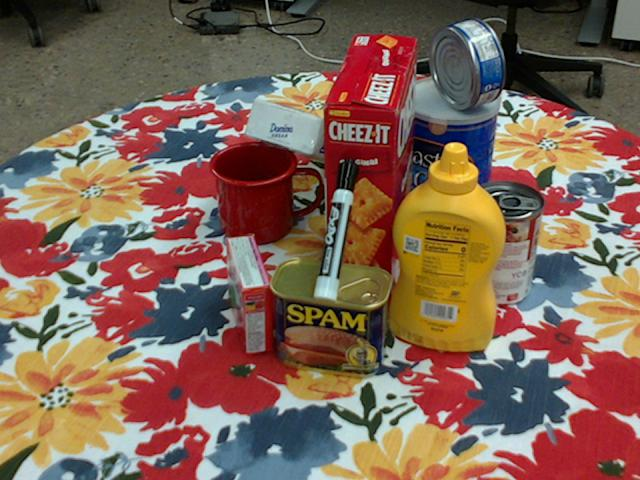cracker_box: (323, 34, 419, 313)
gelatin_box: (227, 233, 272, 353)
large_marker: (315, 157, 358, 300)
master_chef_can: (398, 76, 499, 236)
mug: (210, 141, 323, 245)
mustard_bottle: (389, 142, 507, 352)
potted_meat_can: (270, 257, 394, 377)
sugar_box: (247, 99, 393, 180)
tomato_soup_can: (464, 181, 544, 306)
tuna_fish_can: (428, 18, 505, 109)
